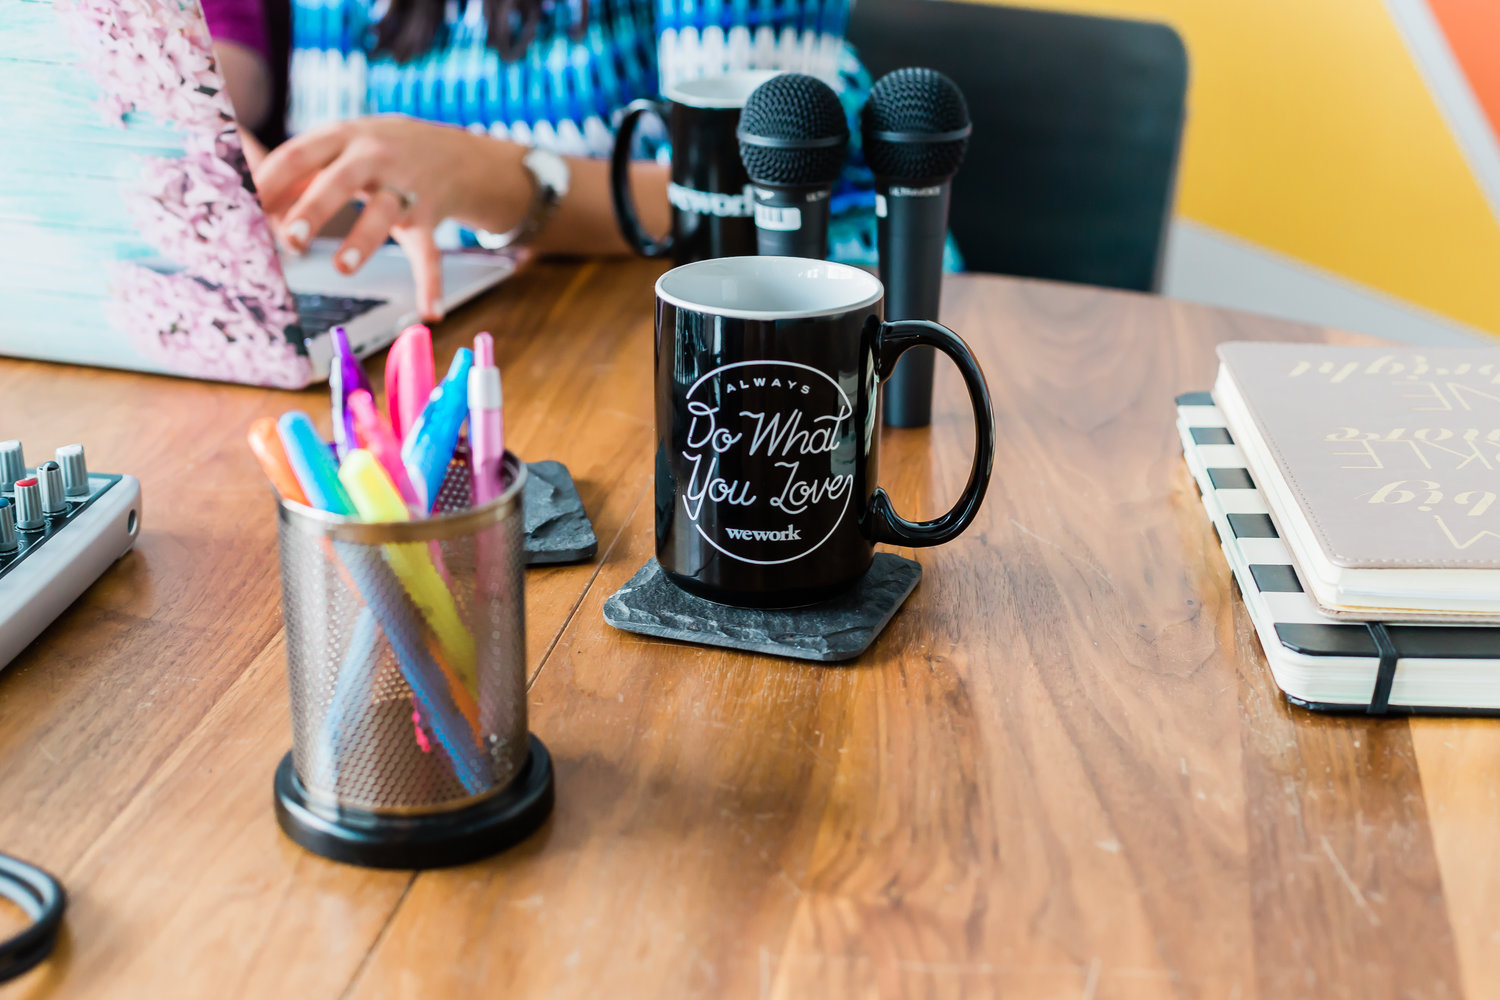wework: (722, 520, 804, 544)
